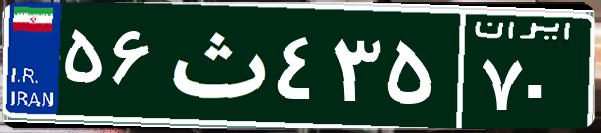0: (525, 38, 570, 115)
3: (330, 28, 385, 110)
4: (273, 28, 330, 110)
5: (385, 28, 445, 110), (57, 26, 110, 107)
6: (110, 28, 158, 105)
7: (475, 38, 525, 113)
ث: (158, 15, 273, 115)
